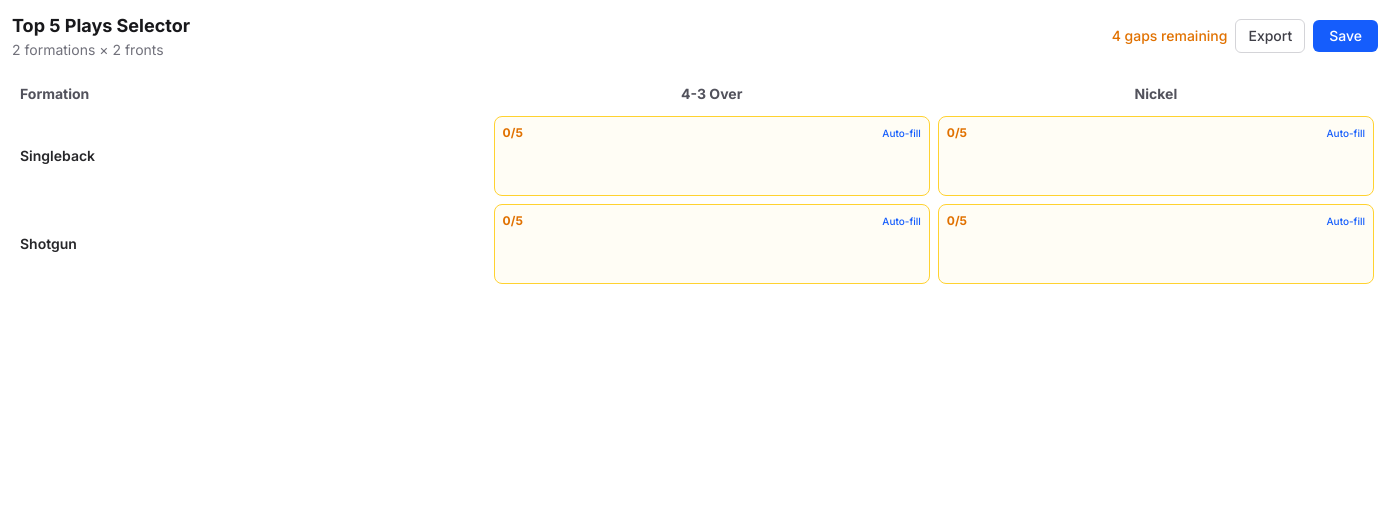
Test: TopPlaysSelector › hides detail panel when clicking the same cell again
Step 1. Click the button with test id "cell-f1-fr1" → coordinates (507, 132), box [494,116,930,196]
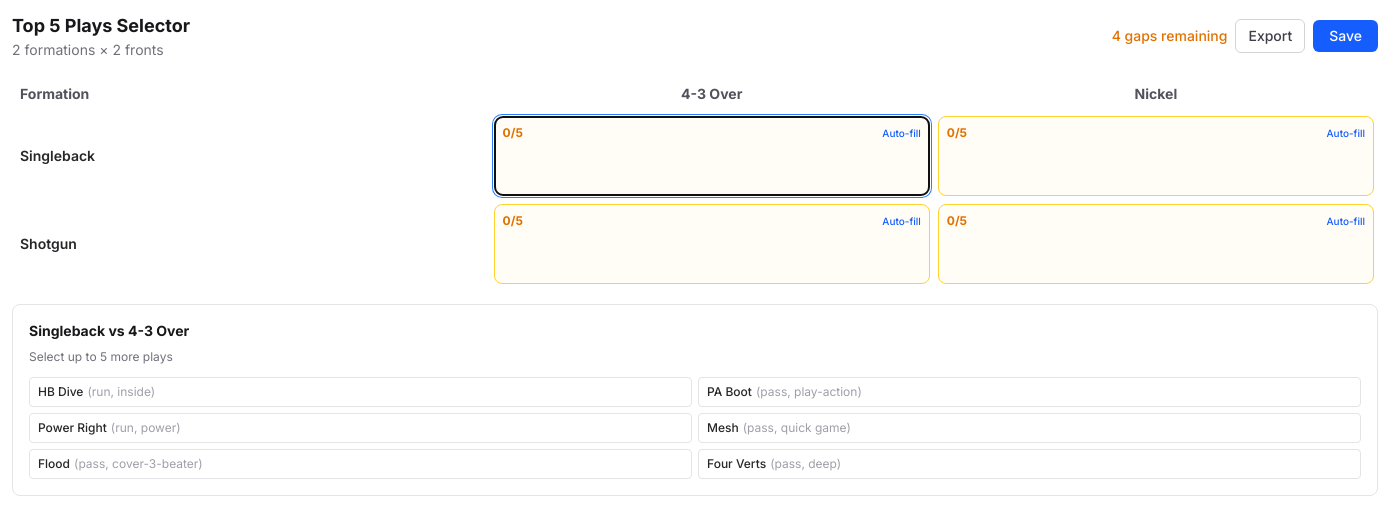
Check: the element with test id "cell-detail-panel" is shown, box [12,304,1378,496]
Step 2. Click the button with test id "cell-f1-fr1" → coordinates (507, 132), box [494,116,930,196]
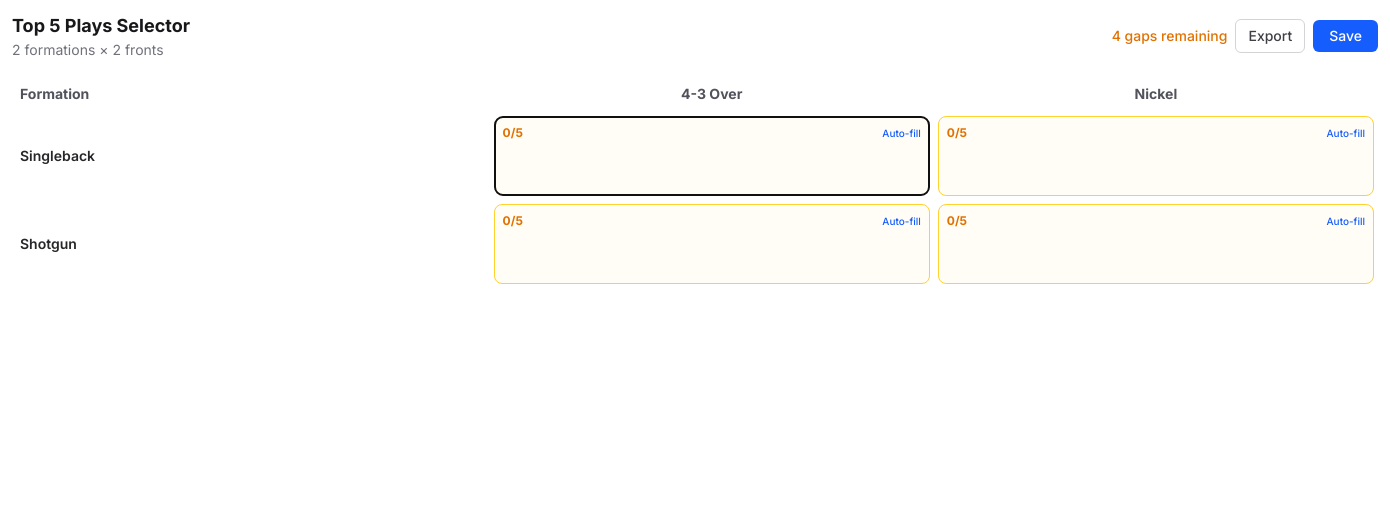
Check: the element with test id "cell-detail-panel" is gone
